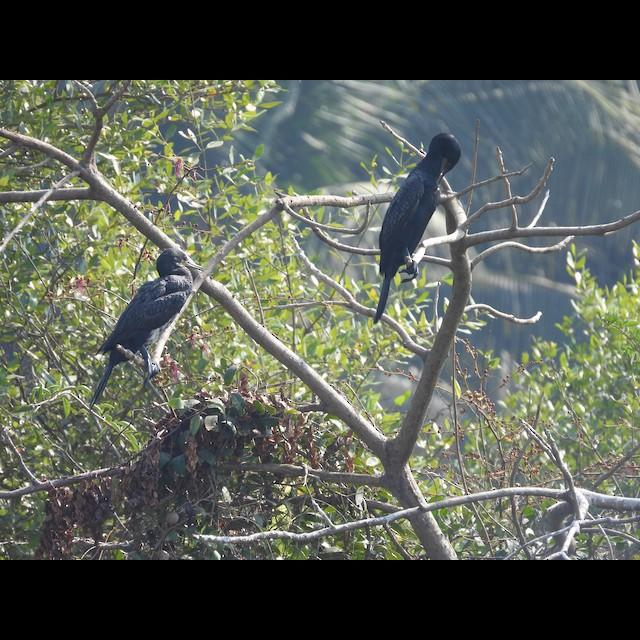cormorant: (371, 132, 461, 324), (96, 248, 206, 400)
